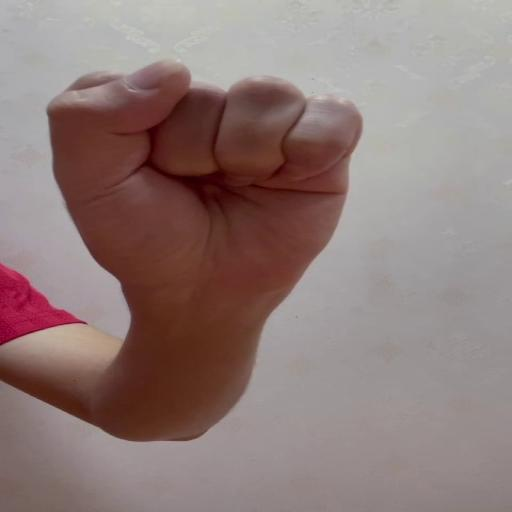fist: (46, 53, 364, 276)
